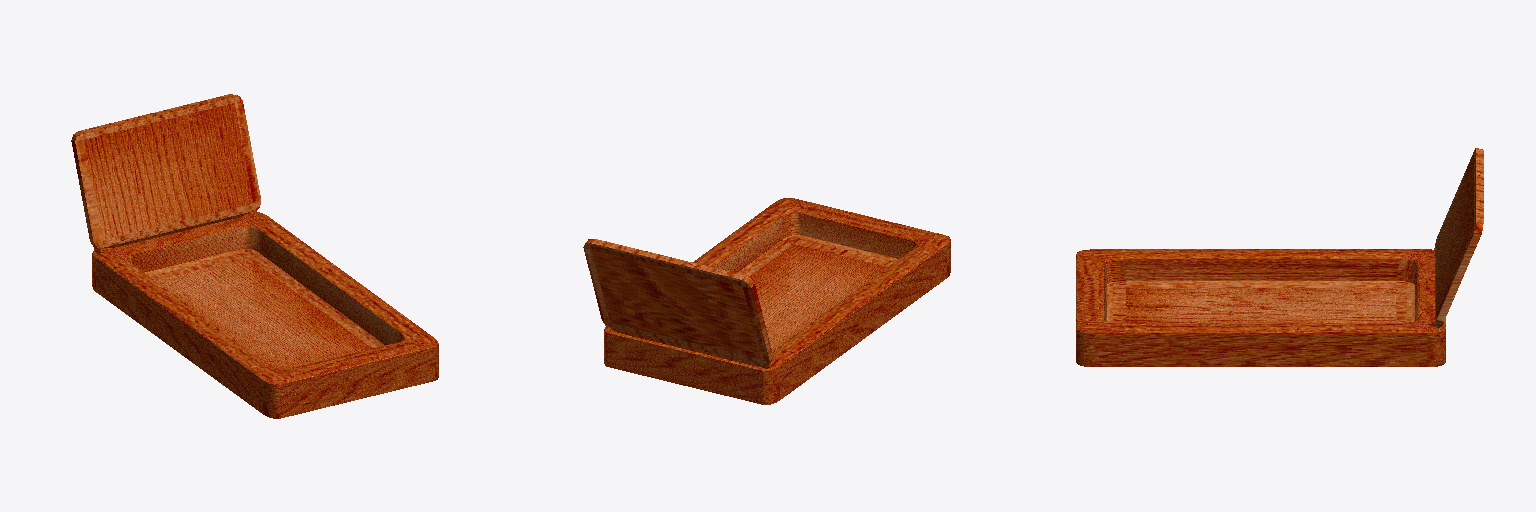
The picture shows the model from 3 angles: view 1: azimuth 30°, elevation 25°; view 2: azimuth 150°, elevation 25°; view 3: azimuth 270°, elevation 25°; orthographic projection.
Parts seen in each view (by area): view 1: Cube_Cube.001; view 2: Cube_Cube.001; view 3: Cube_Cube.001.
Part boxes in pixels (left/top/right/bottom): Cube_Cube.001: left=71, top=94, right=438, bottom=418; Cube_Cube.001: left=583, top=198, right=950, bottom=404; Cube_Cube.001: left=1076, top=148, right=1483, bottom=366.
Size of the model in its own units: 2 by 1.57 by 4.1.
1 materials, 1 textured.